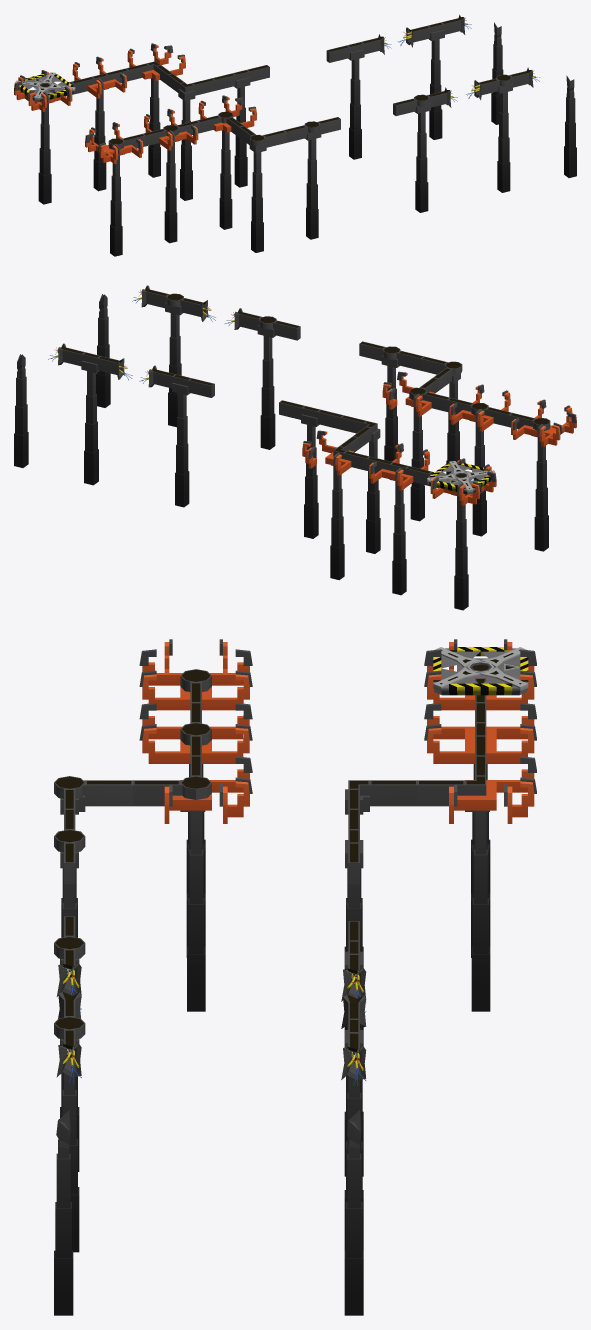
The model's file is Plataformas01.fbx.
3 views of the same model, one above another, from view 1: azimuth 30°, elevation 25°; view 2: azimuth 150°, elevation 25°; view 3: azimuth 270°, elevation 25° (orthographic). The views are drawn at different scales.
Visible parts, largest first — view 1: Object001, RielParada004, RielParada005, RielParada02, Riel014, RielParada03, Riel013, Riel003, Riel010, Riel006, Riel012, RielParada01 (+5 smaller); view 2: RielParada004, RielParada02, RielParada03, Riel013, Riel006, Object001, Riel003, RielParada005, Riel014, RielParada01, Riel01, Riel010 (+5 smaller); view 3: RielParada03, Object001, RielParada005, RielParada02, RielParada004, Plataforma, Riel014, Riel005, Riel008, RielParada01, Riel006, Riel012 (+5 smaller).
Part boxes in pixels (x1,y1,x2,y2): Object001: (197,95,256,229); RielParada004: (85,122,144,256); RielParada005: (142,109,199,243); RielParada02: (71,56,128,191); Riel014: (466,67,539,192); RielParada03: (126,43,185,177); Riel013: (393,87,457,212); Riel003: (326,34,391,159); Riel010: (284,117,340,239); Riel006: (397,14,471,139); Riel012: (239,126,286,252); RielParada01: (14,70,73,204); RielParada004: (509,399,576,551); RielParada02: (367,443,431,595); RielParada03: (302,430,369,580); Riel013: (225,308,300,449); Riel006: (48,343,132,485); Object001: (382,371,449,521); Riel003: (139,365,214,507); RielParada005: (447,384,511,536); Riel014: (132,285,215,427); RielParada01: (429,458,496,610); Riel01: (279,400,343,538); Riel010: (359,341,423,461); RielParada03: (417,756,536,1011); Object001: (133,756,252,1011); RielParada005: (139,702,252,957); RielParada02: (424,702,536,957); RielParada004: (139,639,252,893); Plataforma: (433,647,528,695); Riel014: (54,992,85,1252); Riel005: (344,1110,363,1315); Riel008: (54,1110,73,1315); RielParada01: (424,639,536,893); Riel006: (341,995,366,1250); Riel012: (54,776,132,964).
Size of the model in its own units: 16.42 by 4.19 by 7.64.
Materials: 1 (1 with a texture image).
